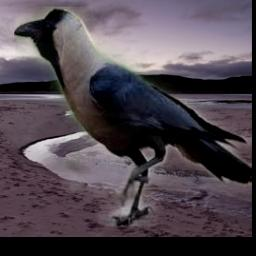Crow: (14, 8, 252, 227)
